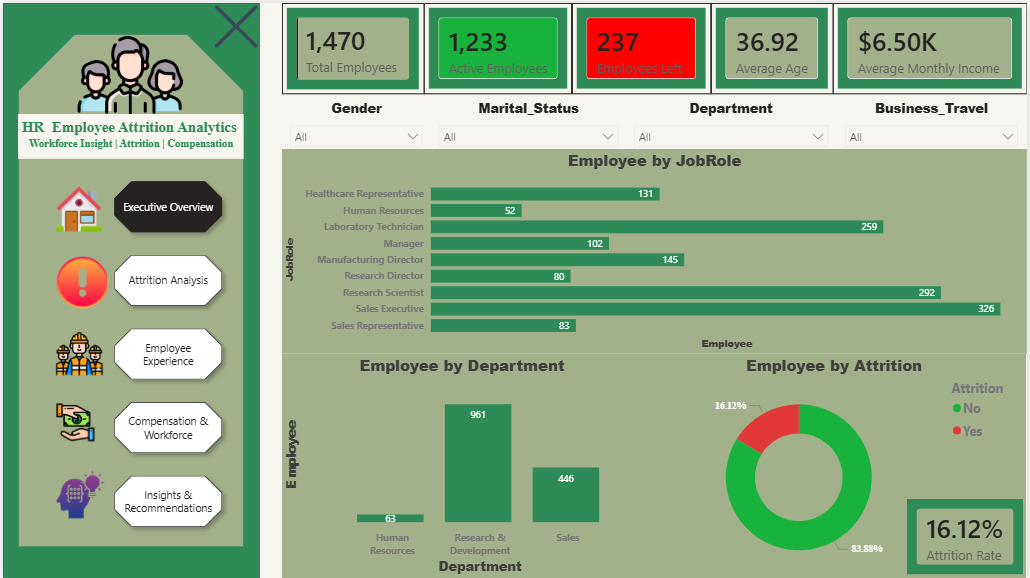

The dashboard page shown, as its layout file describes it:
{"tool":"powerbi","page":{"name":"Executive Overview","canvas":[1280,720],"ordinal":0},"visuals":[{"type":"cardVisual","fields":{"Data":["DAX Measures.Employees Left"]},"box":[711.2,0,173.8,113.8],"z":1000},{"type":"cardVisual","fields":{"Data":["DAX Measures.Active Employees"]},"box":[526.2,0,185,113.8],"z":2000},{"type":"cardVisual","fields":{"Data":["DAX Measures.Average Monthly Income"]},"box":[1037.5,0,242.5,113.8],"z":3000},{"type":"cardVisual","fields":{"Data":["DAX Measures.Average Age"]},"box":[885,0,152.5,113.8],"z":4000},{"type":"donutChart","fields":{"Category":["employee_attrition.Attrition"],"Y":["Count(employee_attrition.EmployeeNumber)"]},"box":[798.8,438.8,480,281.2],"z":5000},{"type":"clusteredColumnChart","fields":{"Y":["Count(employee_attrition.EmployeeNumber)"],"Category":["employee_attrition.Department"]},"box":[348.8,438.8,450,281.2],"z":6000},{"type":"clusteredBarChart","fields":{"Category":["employee_attrition.JobRole"],"Y":["Count(employee_attrition.EmployeeNumber)"]},"box":[348.8,182.5,931.2,256.2],"z":7000},{"type":"slicer","title":"Department","fields":{"Values":["employee_attrition.Department"]},"box":[778.8,120,262.5,60],"z":8000},{"type":"slicer","title":"Marital_Status","fields":{"Values":["employee_attrition.MaritalStatus"]},"box":[535,120,243.8,60],"z":9000},{"type":"slicer","title":"Business_Travel","fields":{"Values":["employee_attrition.BusinessTravel"]},"box":[1042.5,120,236.2,60],"z":10000},{"type":"slicer","title":"Gender","fields":{"Values":["employee_attrition.Gender"]},"box":[348.8,120,186.2,60],"z":11000},{"type":"shape","box":[0,0,321.2,720],"z":12000},{"type":"actionButton","title":"Overview","box":[61.2,223.8,78.8,67.5],"z":14000},{"type":"actionButton","title":"Overview","box":[61.1,578.9,77.6,71.3],"z":15000},{"type":"actionButton","title":"Overview","box":[61.1,495,68.7,58.5],"z":16000},{"type":"actionButton","title":"Overview","box":[61.1,403.3,76.3,68.7],"z":17000},{"type":"actionButton","title":"Overview","box":[61.2,311.2,78.8,76.2],"z":18000},{"type":"image","box":[19.3,38.5,282.2,100.5],"z":20000},{"type":"textbox","box":[19.3,139,282.2,56.4],"z":21000},{"type":"image","box":[0,0,60.8,56.3],"z":25000},{"type":"cardVisual","fields":{"Data":["DAX Measures.Total Employees"]},"box":[348.2,0,177.5,114.2],"z":26001},{"type":"cardVisual","fields":{"Data":["DAX Measures.Attrition Rate"]},"box":[1124.5,615.2,155.5,104.6],"z":26002}]}

Visuals, with their boxes in screenshot pixels (x1, y1, x2, y2), scaled from the page's 1280x720 canvas onto the 1030x578 screenshot:
cardVisual - DAX Measures.Employees Left: x1=572 y1=0 x2=712 y2=91
cardVisual - DAX Measures.Active Employees: x1=423 y1=0 x2=572 y2=91
cardVisual - DAX Measures.Average Monthly Income: x1=835 y1=0 x2=1029 y2=91
cardVisual - DAX Measures.Average Age: x1=712 y1=0 x2=835 y2=91
donutChart - employee_attrition.Attrition x Count(employee_attrition.EmployeeNumber): x1=643 y1=352 x2=1029 y2=577
clusteredColumnChart - Count(employee_attrition.EmployeeNumber) x employee_attrition.Department: x1=281 y1=352 x2=643 y2=577
clusteredBarChart - employee_attrition.JobRole x Count(employee_attrition.EmployeeNumber): x1=281 y1=147 x2=1029 y2=352
"Department" slicer: x1=627 y1=96 x2=838 y2=144
"Marital_Status" slicer: x1=431 y1=96 x2=627 y2=144
"Business_Travel" slicer: x1=839 y1=96 x2=1029 y2=144
"Gender" slicer: x1=281 y1=96 x2=431 y2=144
shape: x1=0 y1=0 x2=258 y2=577
"Overview" actionButton: x1=49 y1=180 x2=113 y2=234
"Overview" actionButton: x1=49 y1=465 x2=112 y2=522
"Overview" actionButton: x1=49 y1=397 x2=104 y2=444
"Overview" actionButton: x1=49 y1=324 x2=111 y2=379
"Overview" actionButton: x1=49 y1=250 x2=113 y2=311
image: x1=16 y1=31 x2=243 y2=112
textbox: x1=16 y1=112 x2=243 y2=157
image: x1=0 y1=0 x2=49 y2=45
cardVisual - DAX Measures.Total Employees: x1=280 y1=0 x2=423 y2=92
cardVisual - DAX Measures.Attrition Rate: x1=905 y1=494 x2=1029 y2=577
